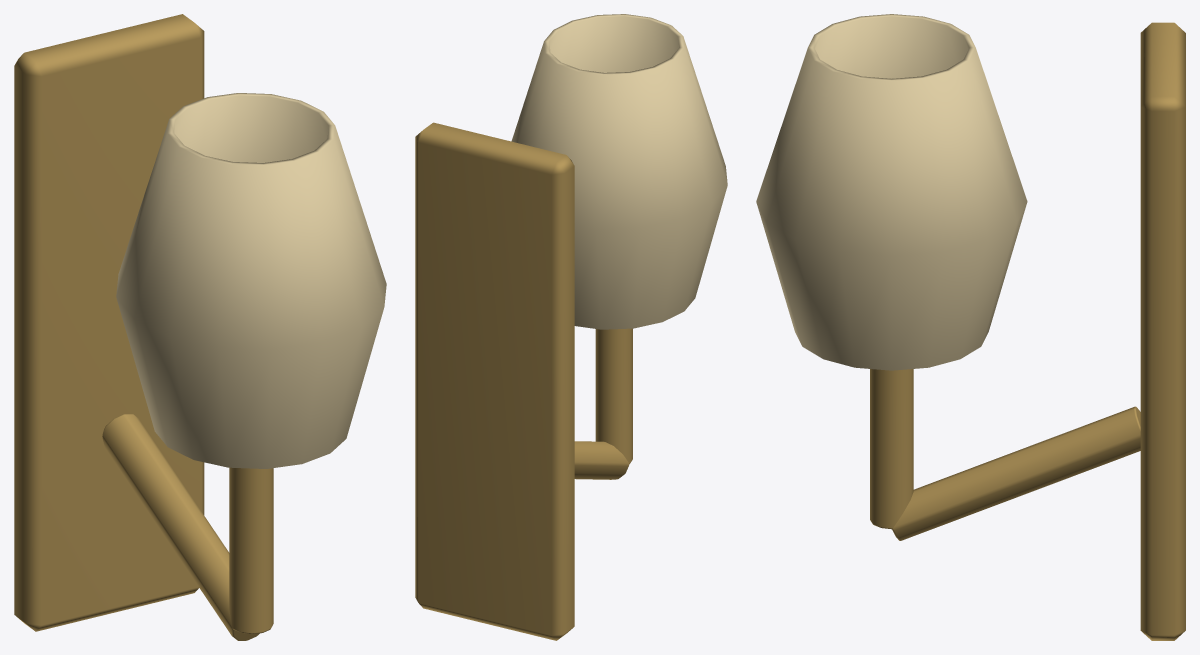
The model's file is rpg-mansion-sconce-01.glb.
3 renders of one model, left to right at view 1: azimuth 30°, elevation 25°; view 2: azimuth 150°, elevation 25°; view 3: azimuth 270°, elevation 25°, orthographic. The views are drawn at different scales.
Visible parts, largest first — view 1: rpg-mansion-sconce-01; view 2: rpg-mansion-sconce-01; view 3: rpg-mansion-sconce-01.
Part boxes in pixels (left/top/right/bottom): rpg-mansion-sconce-01: left=14, top=14, right=386, bottom=640; rpg-mansion-sconce-01: left=415, top=14, right=727, bottom=640; rpg-mansion-sconce-01: left=756, top=14, right=1185, bottom=640.
Bounding box in the file's own units: 0.21 × 0.5 × 0.35.
